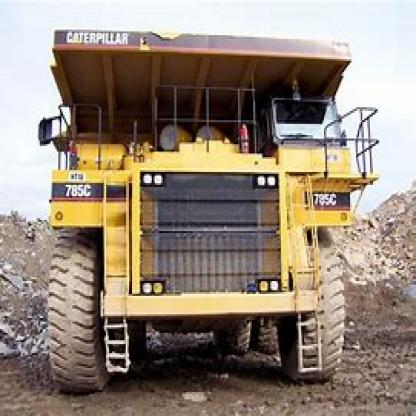dump_truck: (38, 8, 373, 390)
